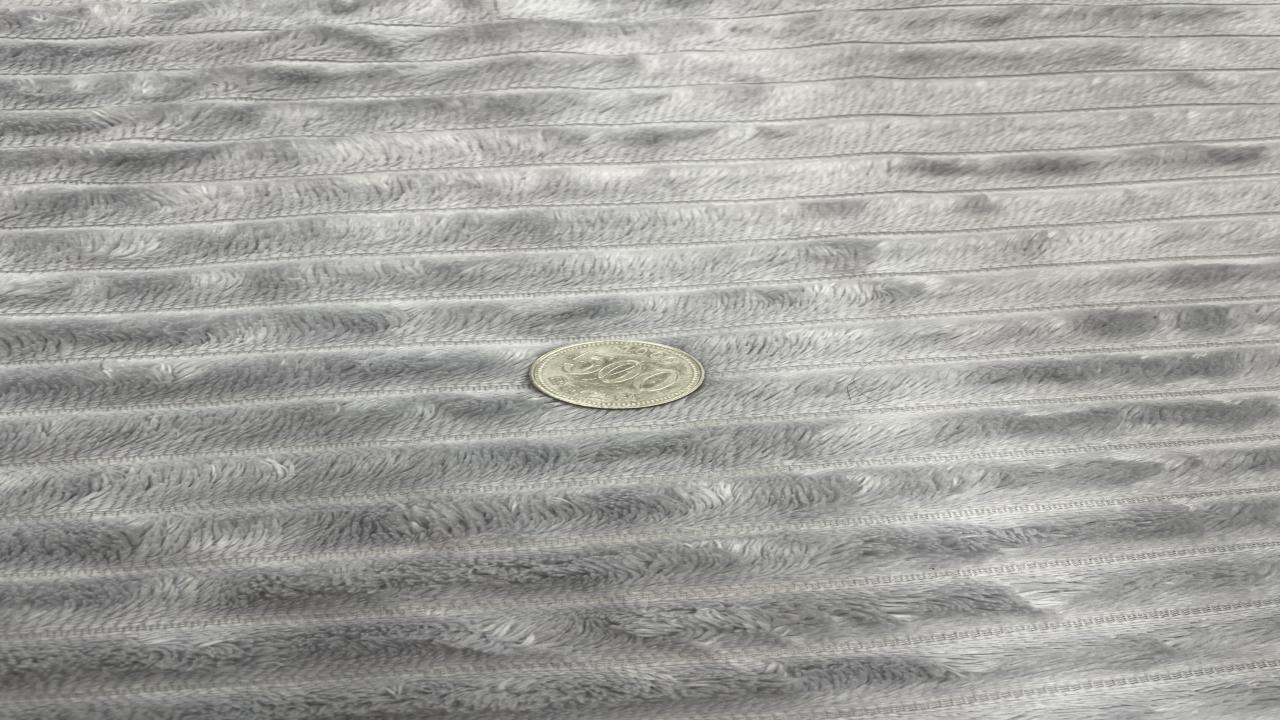coin: (524, 338, 706, 410)
